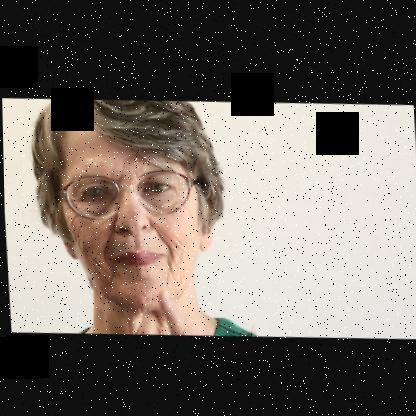Female: (53, 95, 215, 309)
